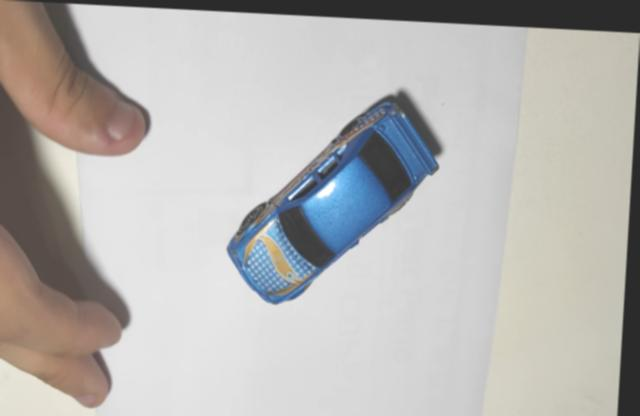04_MERZEDES: (229, 84, 444, 300)
